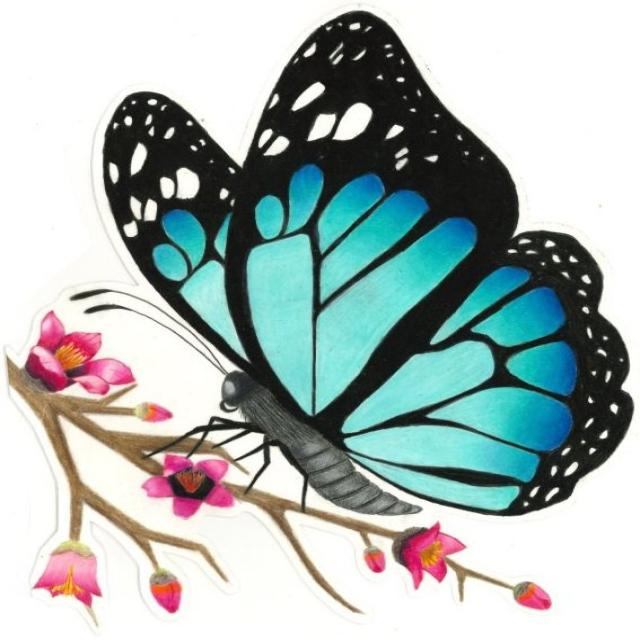butterfly: (82, 29, 638, 528)
